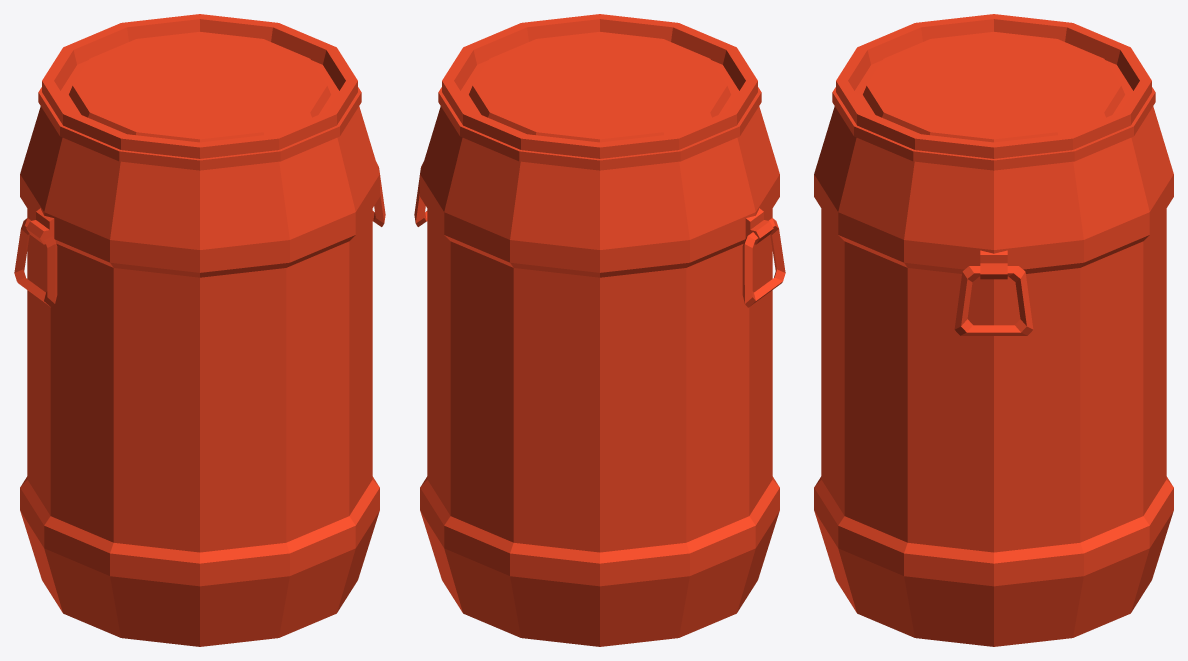
Rendered from SM_Barrel_City.fbx.
The picture shows the model from 3 angles, left to right: view 1: azimuth 30°, elevation 25°; view 2: azimuth 150°, elevation 25°; view 3: azimuth 270°, elevation 25°; orthographic projection.
Parts seen in each view (by area): view 1: SM_Barrel_City; view 2: SM_Barrel_City; view 3: SM_Barrel_City.
Part boxes in pixels (<box>): SM_Barrel_City: <box>14,14,385,646</box>; SM_Barrel_City: <box>414,14,785,646</box>; SM_Barrel_City: <box>814,14,1173,646</box>.
Size of the model in its own units: 0.8181 by 1.15 by 0.7516.
